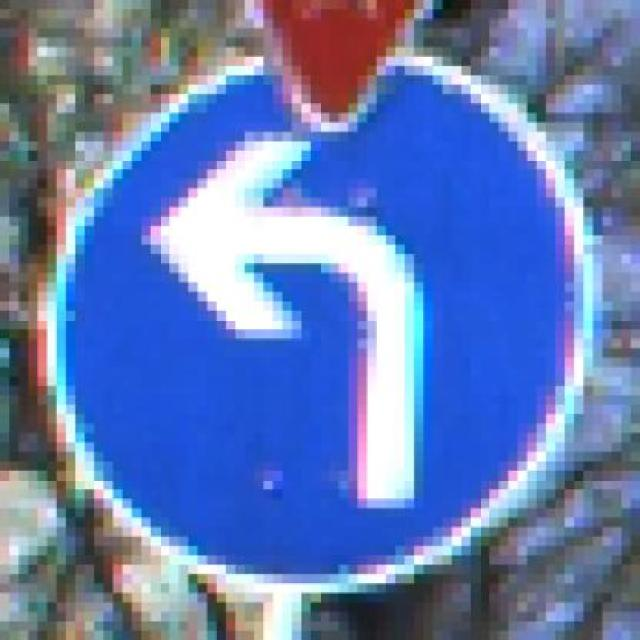Turn left ahead: (19, 56, 630, 621)
